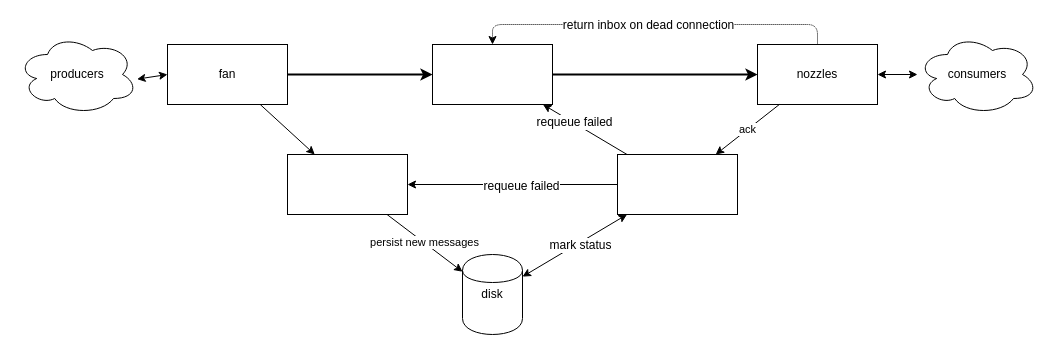
Some shapes in this 1055 by 352 pixel diagram are drawn without their labels. Each missing label, with the box of its shape:
combustor: (432, 44, 552, 104)
compressor: (286, 154, 408, 214)
turbine: (616, 154, 738, 214)
